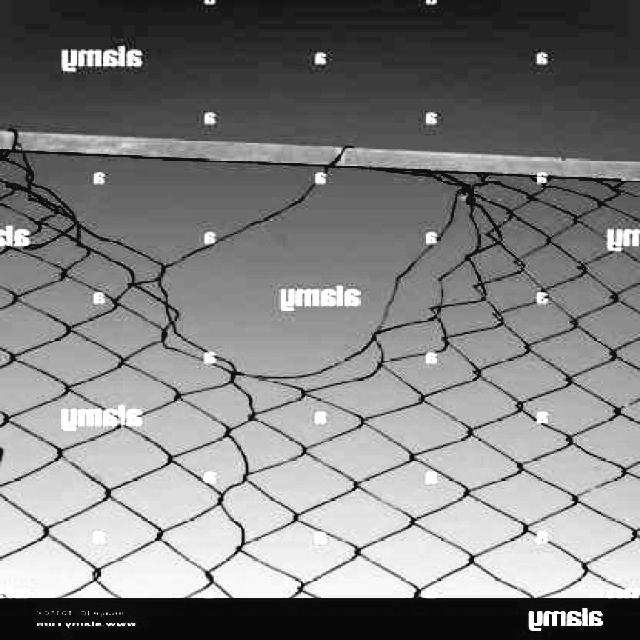anomaly-fence: (0, 123, 631, 397)
